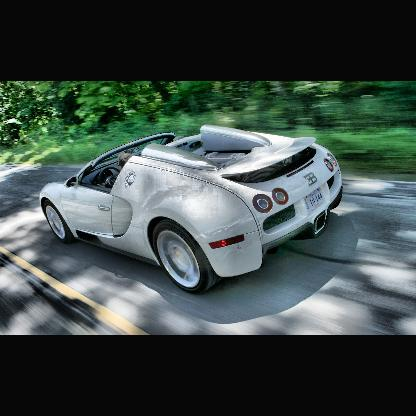Bugatti Veyron 16-4 Convertible 2009: (40, 125, 345, 295)
